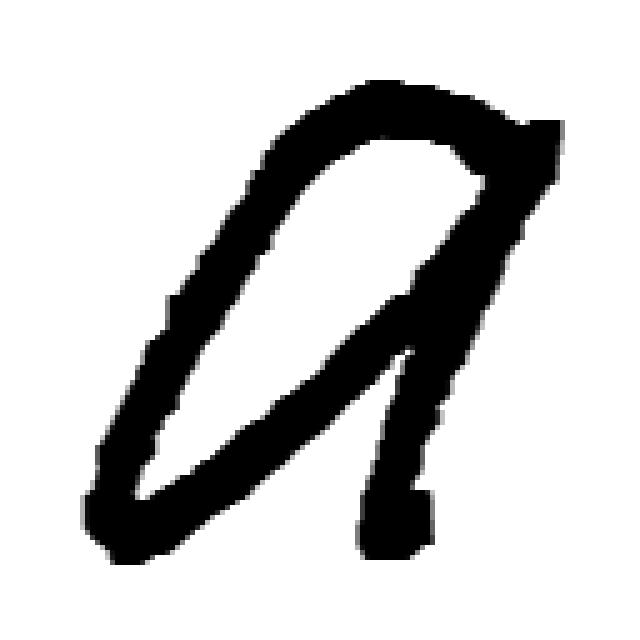A: (69, 74, 558, 560)
